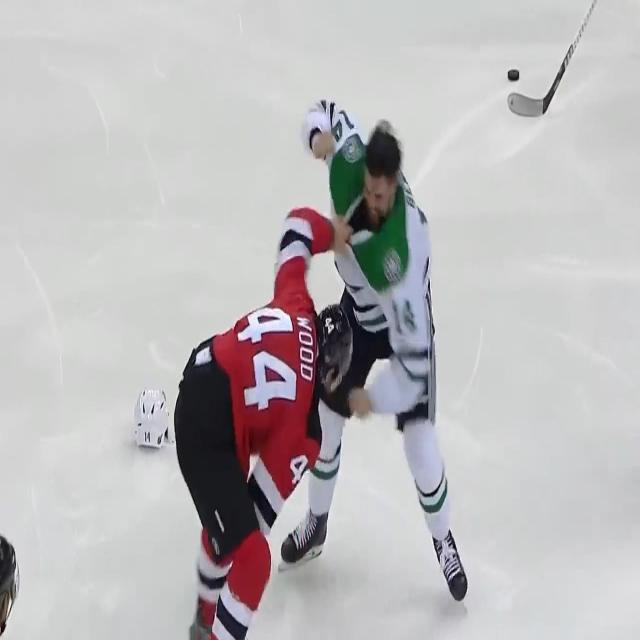fight: (213, 48, 483, 640)
